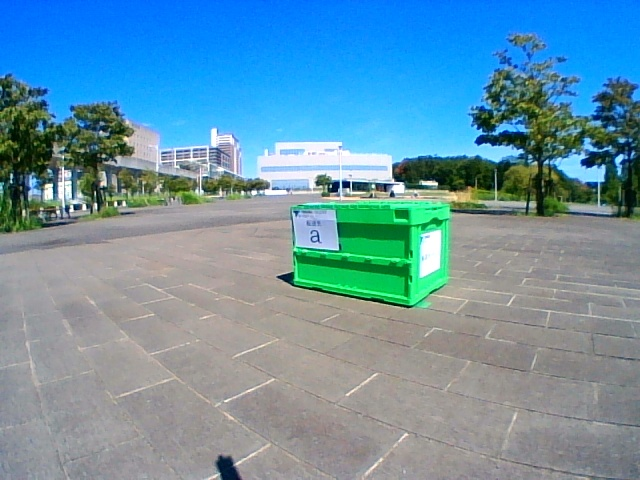green_box: (290, 200, 450, 308)
tag_a: (297, 212, 335, 247)
